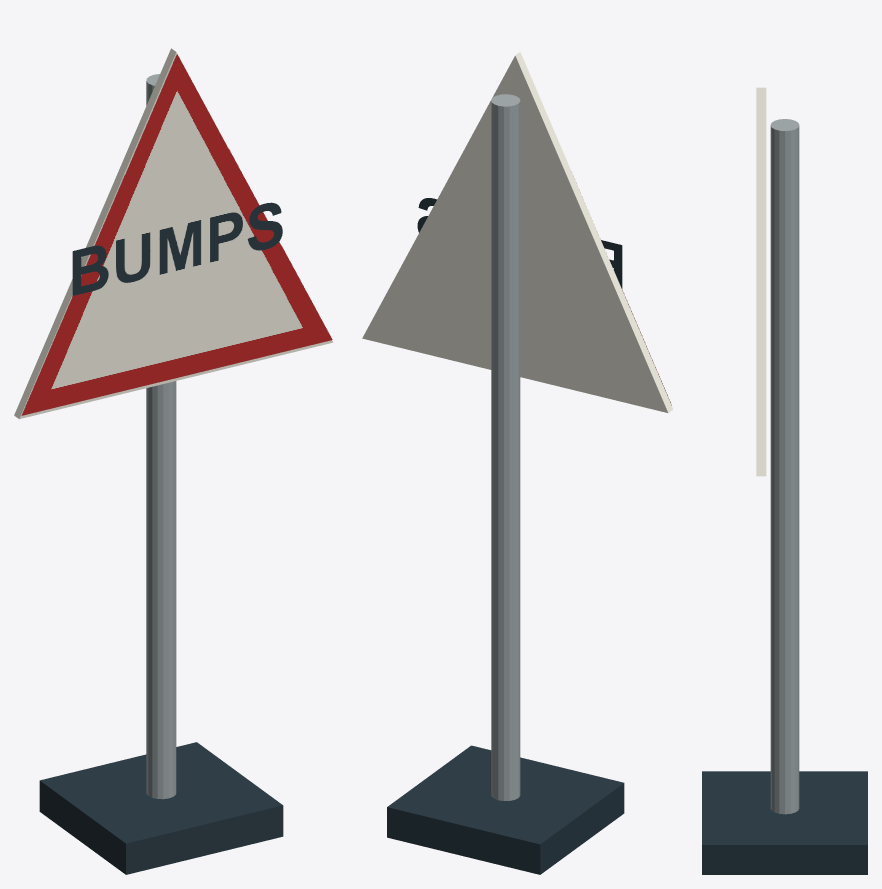
Rendered from scendance-plan-bumps.glb.
3 views of the same model, side by side, from view 1: azimuth 30°, elevation 25°; view 2: azimuth 150°, elevation 25°; view 3: azimuth 270°, elevation 25° (orthographic). The views are drawn at different scales.
Bounding box in the file's own units: 0.84 × 2 × 0.4.
Materials: 4 (1 with a texture image).
